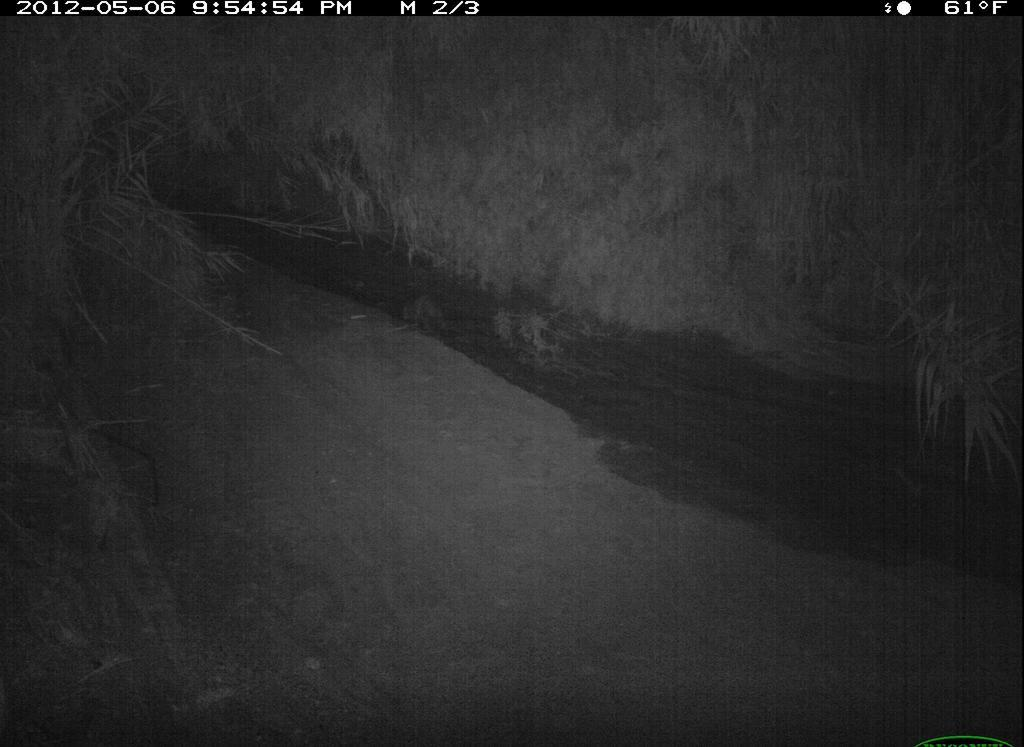opossum: (796, 582, 913, 679)
